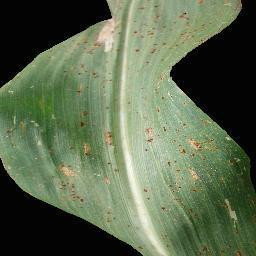Corn_Common_Rust: (183, 98, 256, 256), (88, 0, 247, 55), (141, 56, 182, 172), (56, 158, 119, 196), (69, 115, 113, 155), (139, 184, 183, 212), (5, 113, 41, 146), (131, 230, 172, 256), (75, 66, 115, 85), (56, 38, 87, 57), (103, 209, 119, 225), (70, 197, 86, 210), (61, 65, 75, 77), (48, 110, 59, 124), (28, 80, 43, 90), (6, 83, 18, 95), (80, 106, 94, 115), (73, 87, 86, 94)
